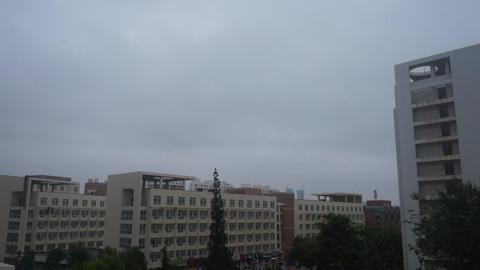UAV: (277, 203, 287, 208)
